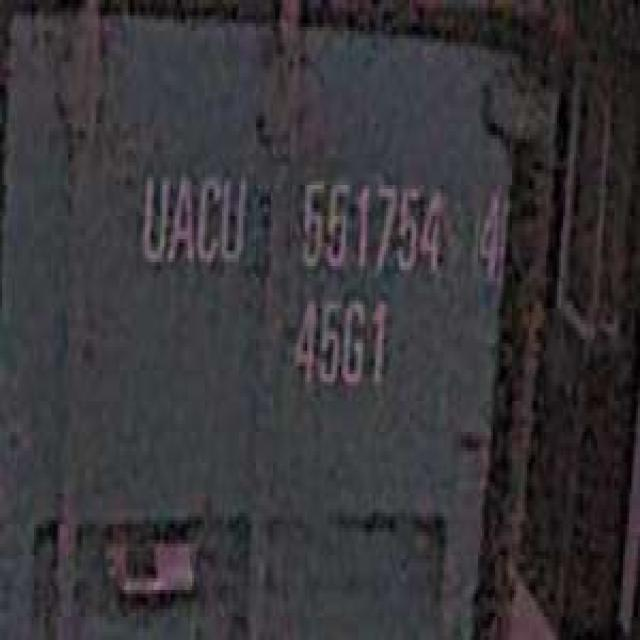dv: (472, 170, 506, 285)
owner: (136, 158, 248, 278)
serial: (292, 166, 448, 281)
size: (288, 285, 393, 397)
